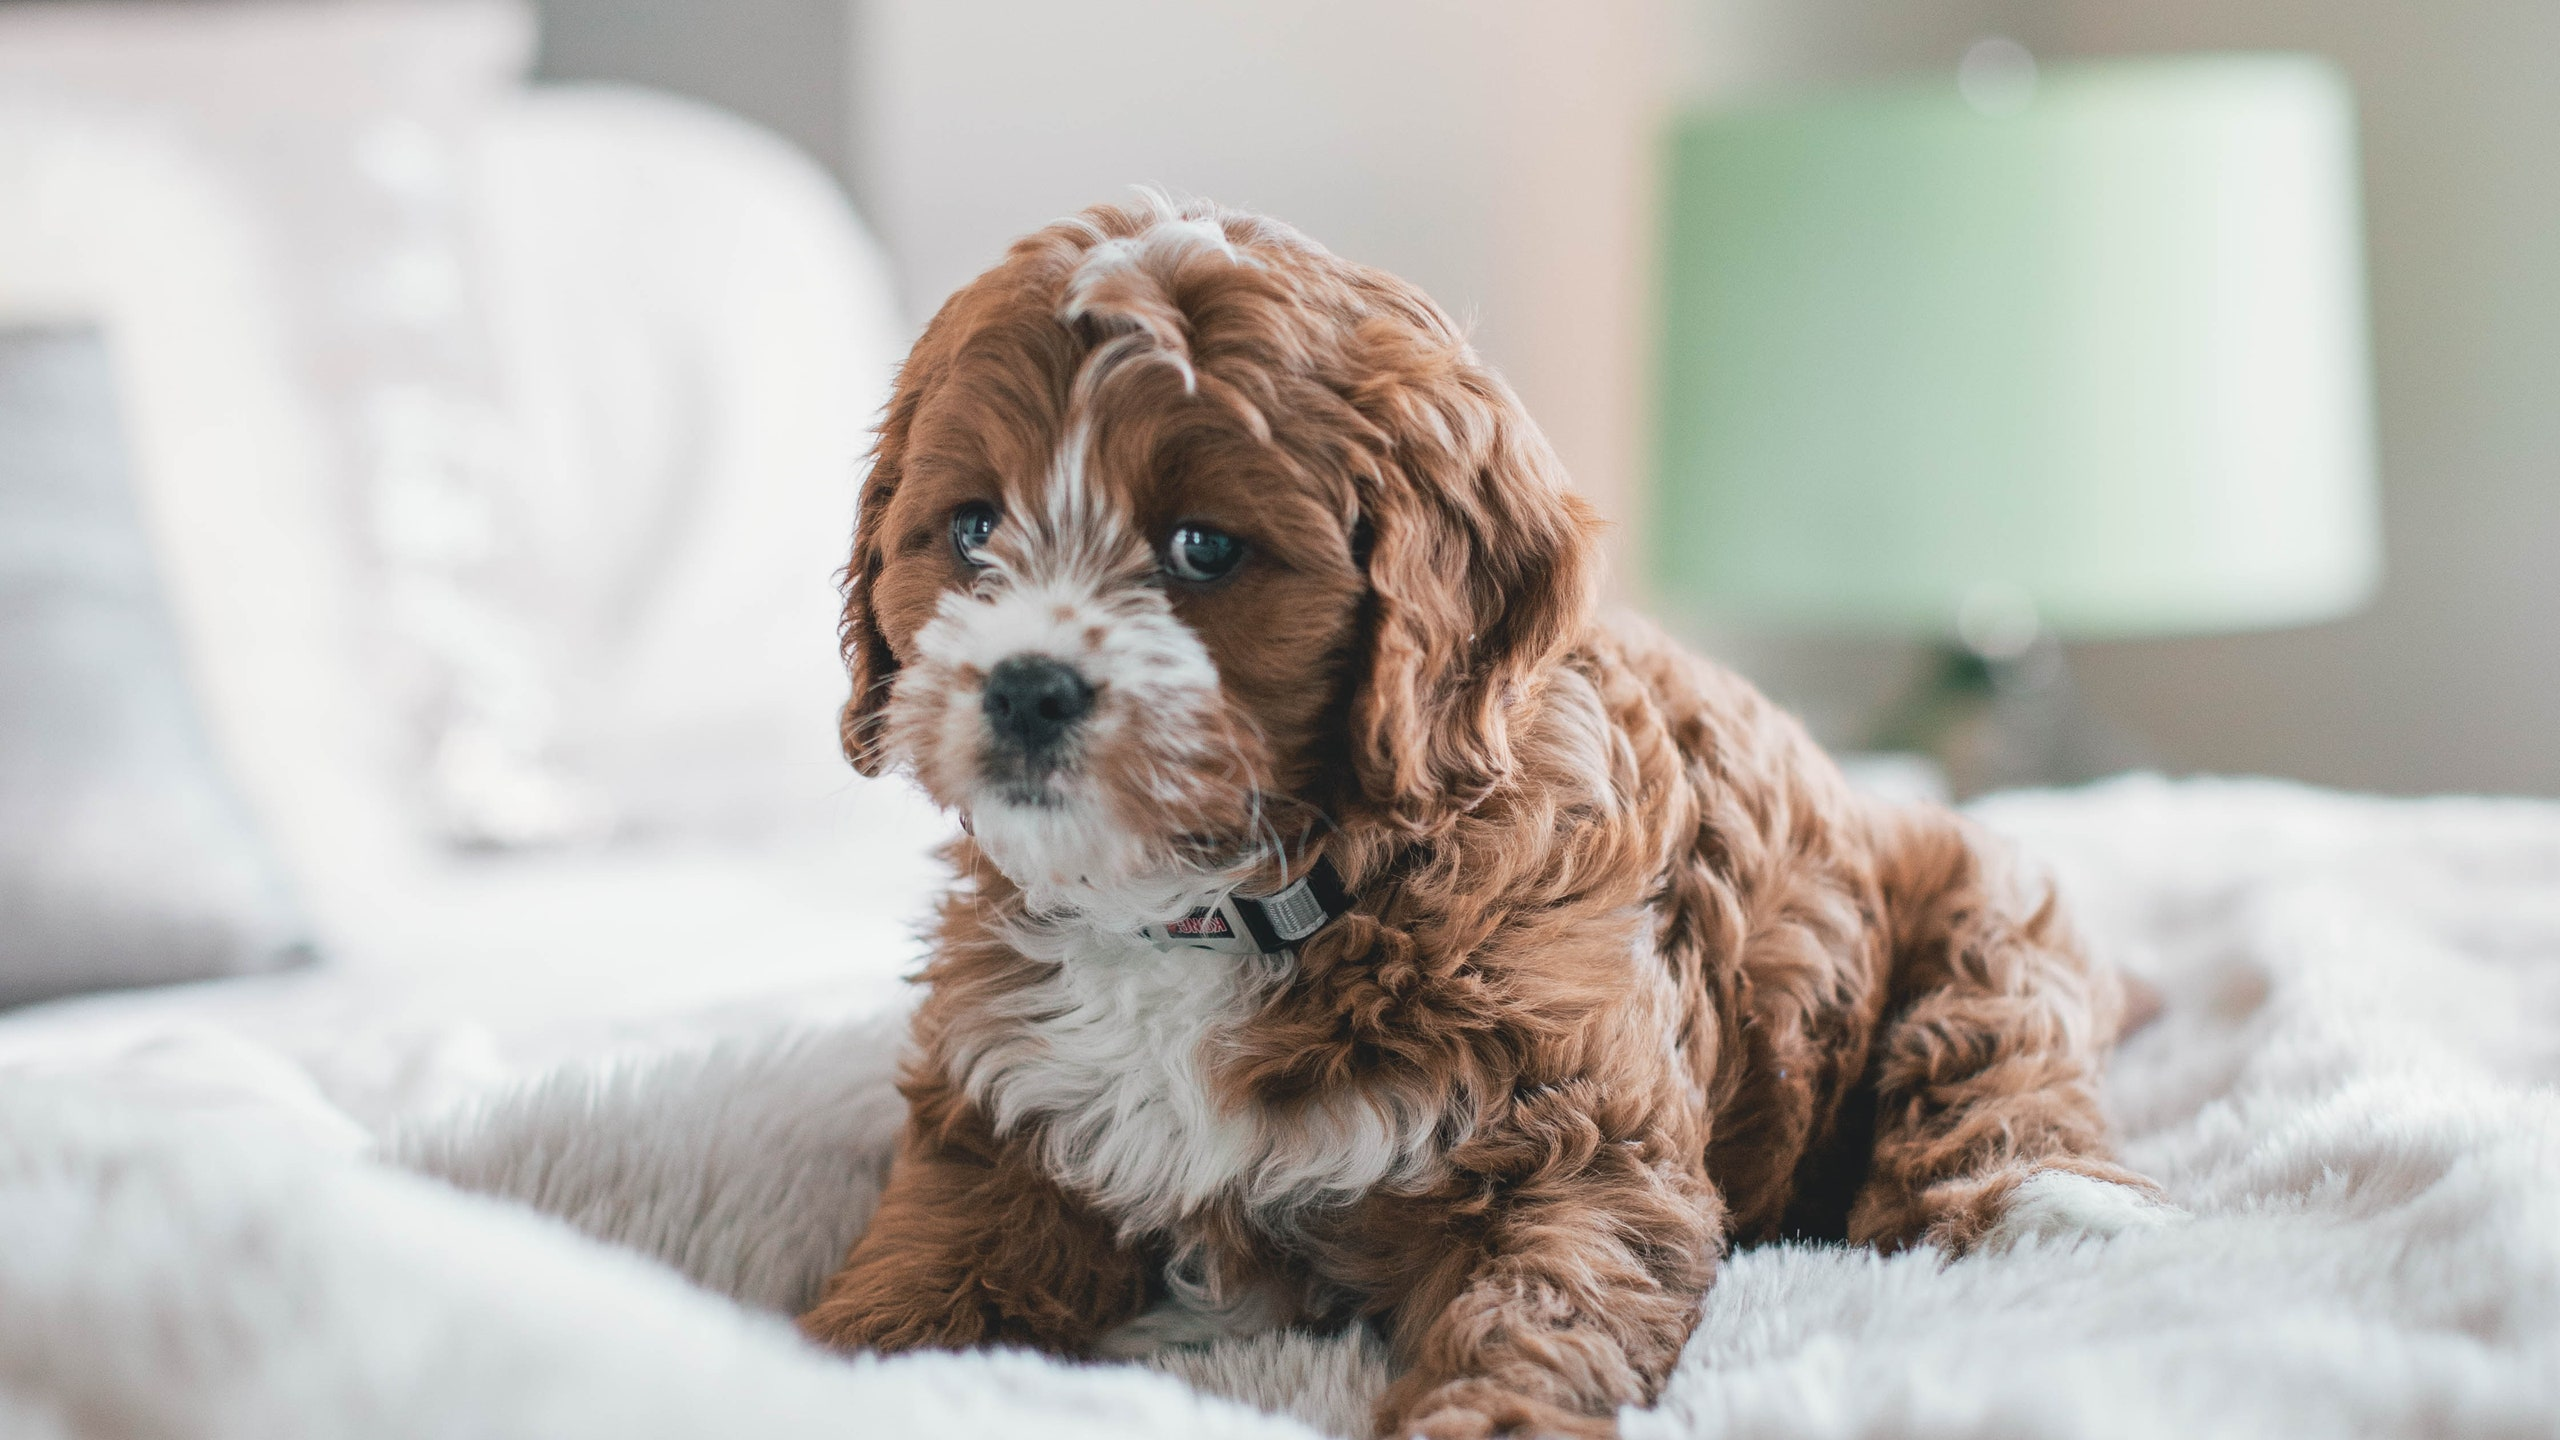pet: (823, 185, 1698, 1254)
